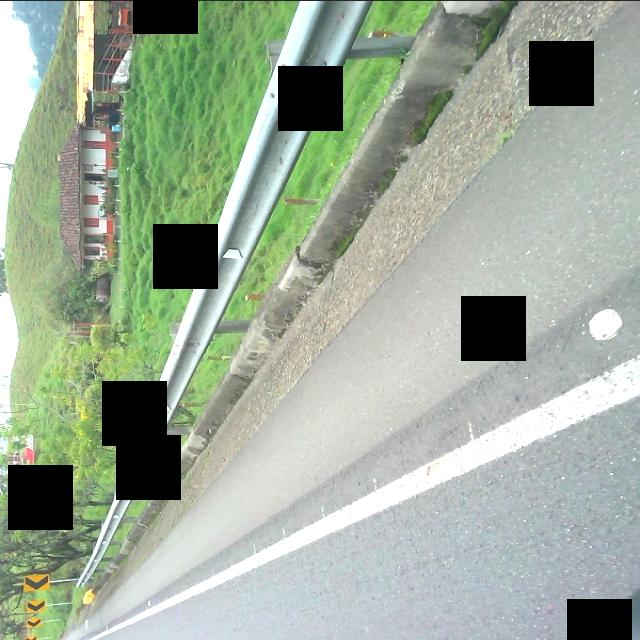DITCH: (60, 2, 638, 638)
